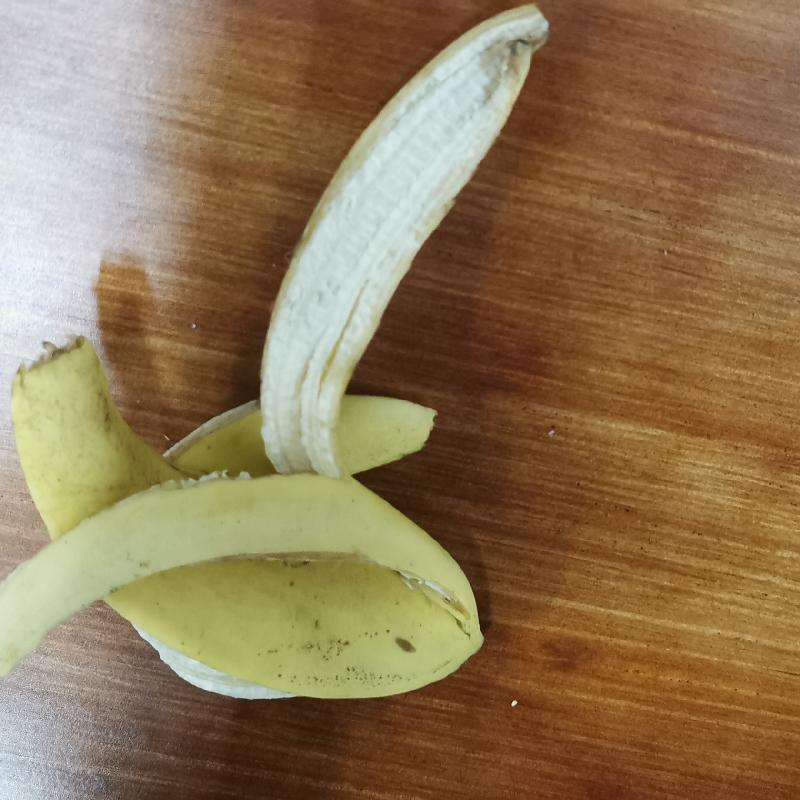bananas: (3, 6, 549, 704)
